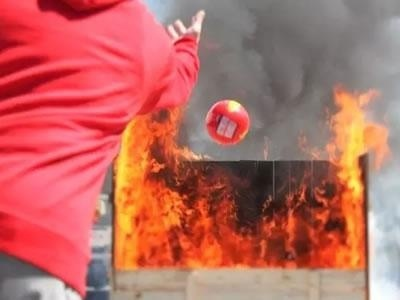fire: (104, 74, 374, 284)
